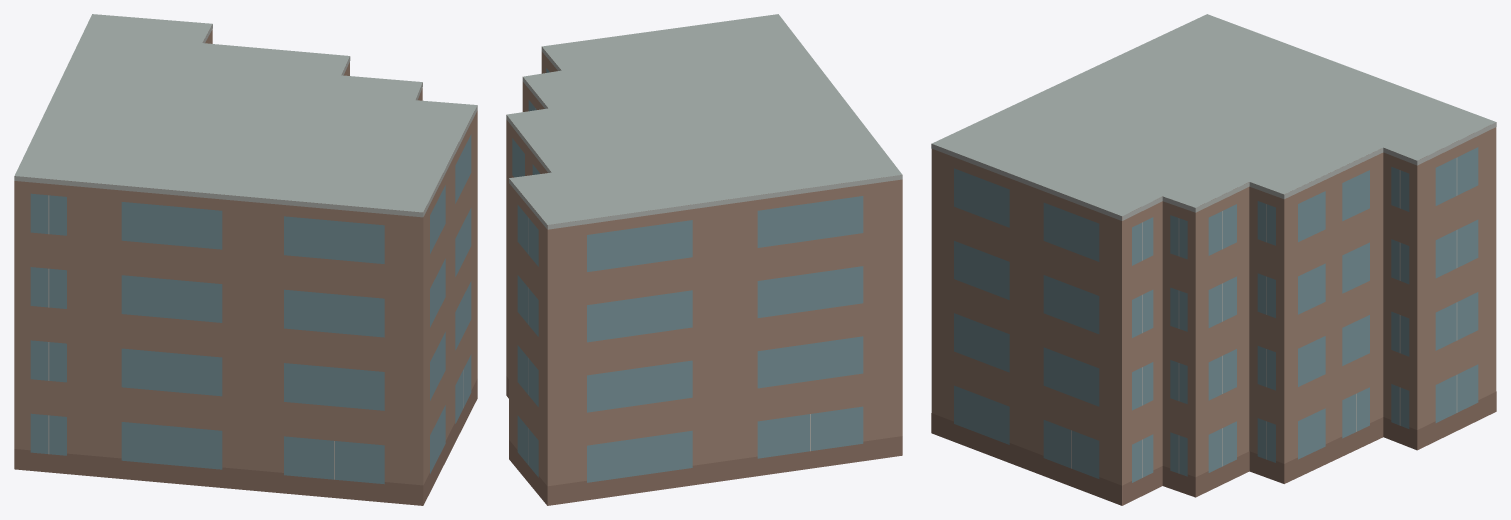
Rendered from survey-upis-32500099.glb.
3 renders of one model, left to right at view 1: azimuth 30°, elevation 25°; view 2: azimuth 150°, elevation 25°; view 3: azimuth 270°, elevation 25°, orthographic. The views are drawn at different scales.
Parts seen in each view (by area): view 1: survey-upis-32500099.tmp; view 2: survey-upis-32500099.tmp; view 3: survey-upis-32500099.tmp.
Boxes of the visible parts, left/top/right/bottom form: survey-upis-32500099.tmp: left=14, top=14, right=477, bottom=505; survey-upis-32500099.tmp: left=506, top=14, right=902, bottom=505; survey-upis-32500099.tmp: left=931, top=14, right=1496, bottom=505.
Size of the model in its own units: 21.96 by 14.65 by 25.91.
